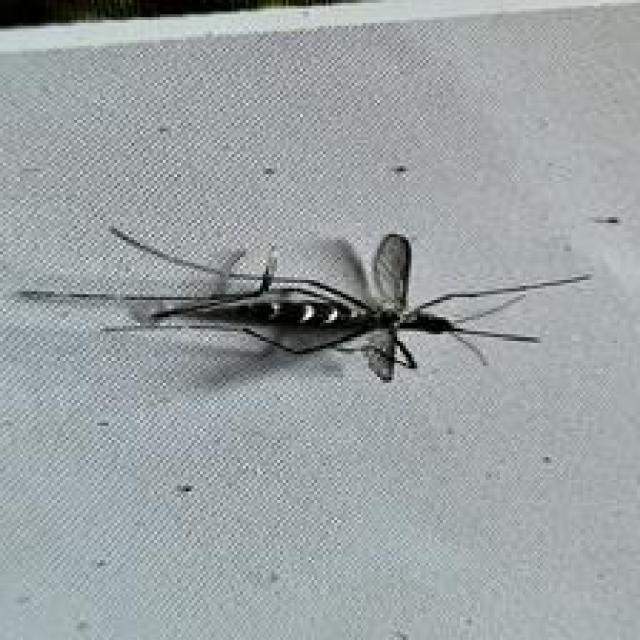Aedes albopictus: (16, 222, 593, 384)
